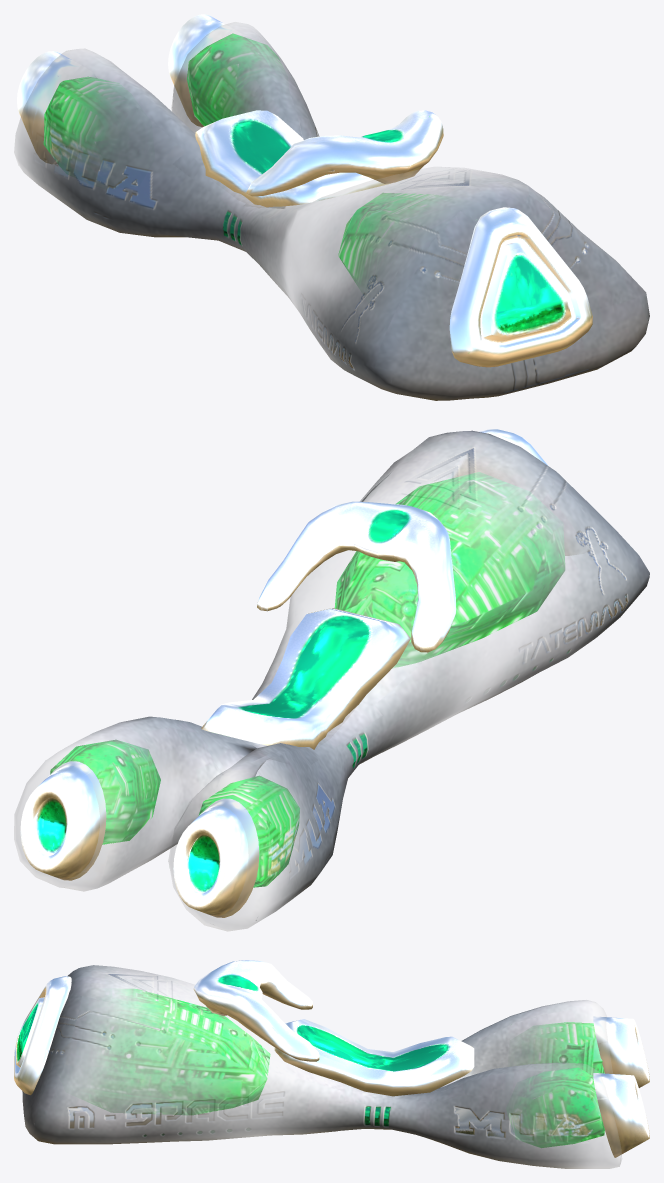
File: TatemanVehicle.glb
3 renders of one model, top to bottom at view 1: azimuth 30°, elevation 25°; view 2: azimuth 150°, elevation 25°; view 3: azimuth 270°, elevation 25°, orthographic. The views are drawn at different scales.
Parts seen in each view (by area): view 1: Retopo_融球.003, 平面.003, Retopo_融球.008, 平面.002, 棱角球.010, 棱角球.011, 柱体.002, 棱角球.009, 柱体.001; view 2: Retopo_融球.003, 棱角球.009, 平面.002, Retopo_融球.008, 柱体.002, 柱体.001, 棱角球.010, 棱角球.011, 平面.003; view 3: Retopo_融球.003, 棱角球.009, 平面.002, Retopo_融球.008, 棱角球.010, 平面.003, 柱体.001, 棱角球.011, 柱体.002.
Part boxes in pixels (<box>): Retopo_融球.003: <box>14,22,649,400</box>; 平面.003: <box>449,207,592,367</box>; Retopo_融球.008: <box>246,110,443,196</box>; 平面.002: <box>195,110,391,207</box>; 棱角球.010: <box>187,33,280,126</box>; 棱角球.011: <box>43,77,114,167</box>; 柱体.002: <box>17,51,96,163</box>; 棱角球.009: <box>338,193,434,283</box>; 柱体.001: <box>168,14,245,127</box>; Retopo_融球.003: <box>14,430,649,930</box>; 棱角球.009: <box>334,472,564,668</box>; 平面.002: <box>201,608,410,749</box>; Retopo_融球.008: <box>257,501,455,652</box>; 柱体.002: <box>173,798,259,917</box>; 柱体.001: <box>20,761,106,880</box>; 棱角球.010: <box>50,740,160,844</box>; 棱角球.011: <box>198,775,299,887</box>; 平面.003: <box>449,429,571,555</box>; Retopo_融球.003: <box>22,965,621,1168</box>; 棱角球.009: <box>91,989,270,1114</box>; 平面.002: <box>274,1019,474,1096</box>; Retopo_融球.008: <box>193,960,319,1061</box>; 棱角球.010: <box>517,1067,604,1147</box>; 平面.003: <box>14,976,71,1095</box>; 柱体.001: <box>593,1073,649,1157</box>; 棱角球.011: <box>537,1022,604,1075</box>; 柱体.002: <box>593,1016,649,1087</box>.
Size of what is drawn, in the model's own units: 6.89 by 5.19 by 17.9.
2 materials, 2 textured.
